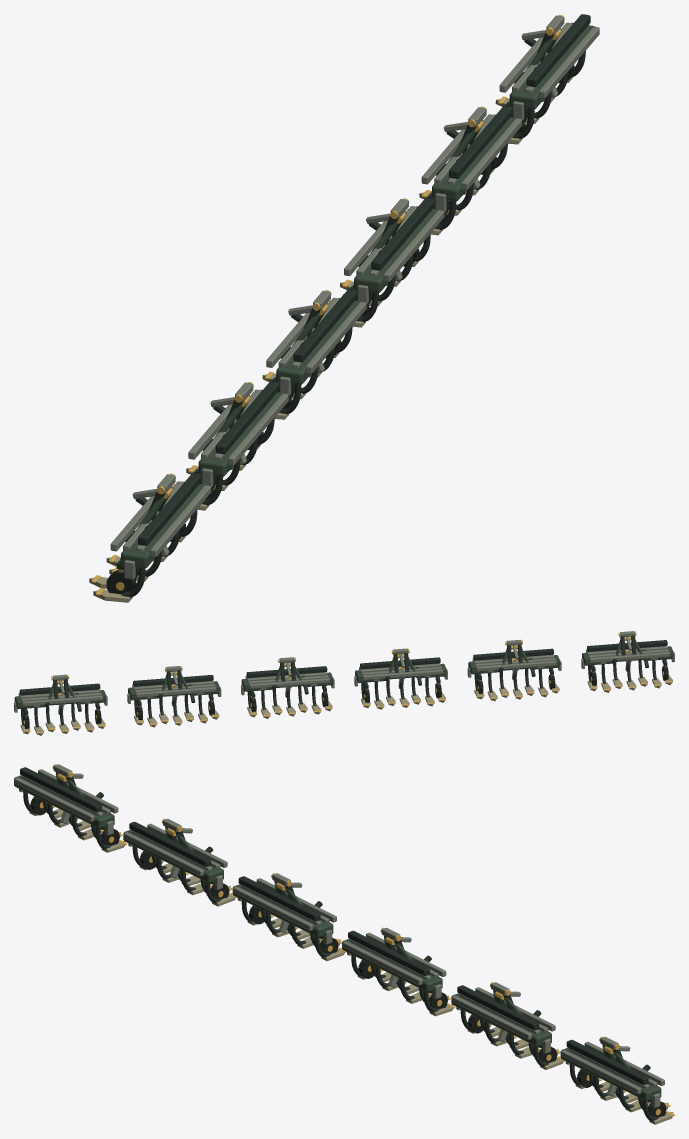
The model's file is audit-hf-cultivator-compact-work-front.glb.
3 renders of one model, top to bottom at view 1: azimuth 30°, elevation 25°; view 2: azimuth 150°, elevation 25°; view 3: azimuth 270°, elevation 25°, orthographic. The views are drawn at different scales.
Visible parts, largest first — view 1: cultivatorToolbar (×6), cultivatorFrame (×6), toolbarCrossRail1 (×6); view 2: toolbarCrossRail4 (×6), cultivatorToolbar (×6), toolbarCrossRail3 (×6), toolbarCrossRail2 (×6); view 3: cultivatorToolbar (×6), cultivatorFrame (×6), toolbarCrossRail1 (×6).
Boxes of the visible parts, <box> form: cultivatorToolbar (×6): <box>138,14,590,545</box>; cultivatorFrame (×6): <box>121,22,594,568</box>; toolbarCrossRail1 (×6): <box>150,26,599,557</box>; toolbarCrossRail4 (×6): <box>22,652,670,706</box>; cultivatorToolbar (×6): <box>19,640,667,695</box>; toolbarCrossRail3 (×6): <box>21,649,668,703</box>; toolbarCrossRail2 (×6): <box>20,646,667,698</box>; cultivatorToolbar (×6): <box>20,767,648,1084</box>; cultivatorFrame (×6): <box>14,775,661,1100</box>; toolbarCrossRail1 (×6): <box>14,777,641,1094</box>.
Size of what is drawn, in the model's own units: 17.52 by 1.71 by 15.06.
